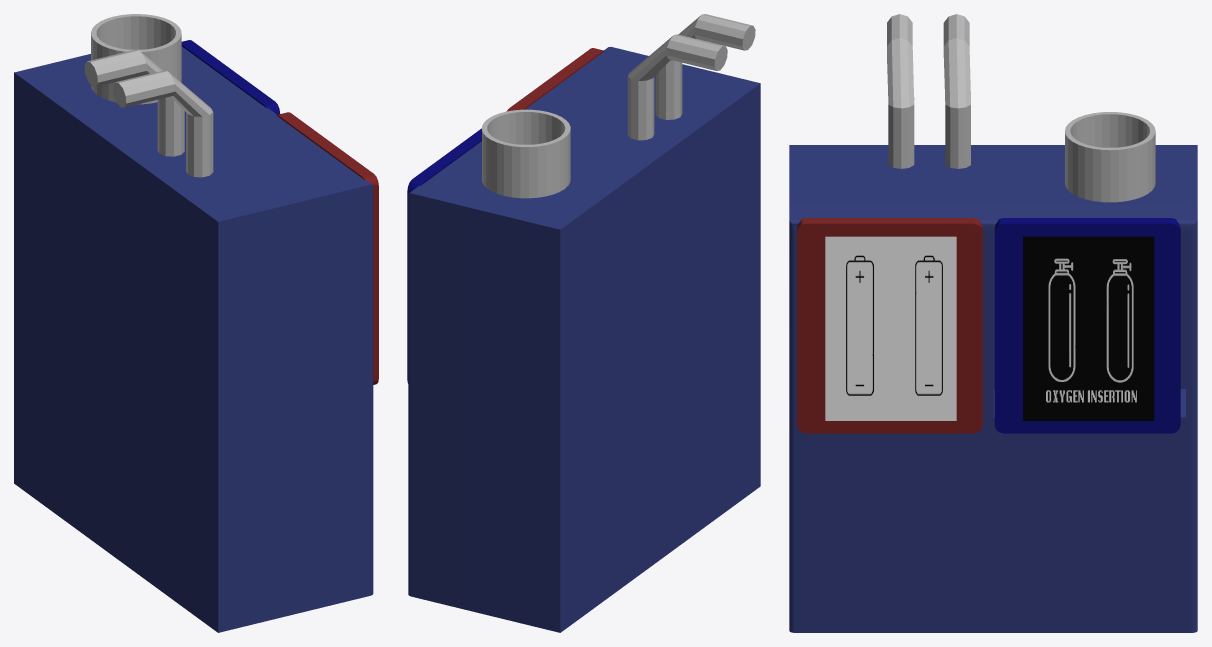
The model's file is BridgeExtensionMachine.fbx.
3 renders of one model, left to right at view 1: azimuth 30°, elevation 25°; view 2: azimuth 150°, elevation 25°; view 3: azimuth 270°, elevation 25°, orthographic. The views are drawn at different scales.
Parts seen in each view (by area): view 1: Bridge_Control_Machine, OxygenCableOpening, Pipe.003, Pipe.004, Battery_Panel_Machine, Battery_Panel_Machine.001; view 2: Bridge_Control_Machine, OxygenCableOpening, Pipe.004, Pipe.003, Battery_Panel_Machine.001, Battery_Panel_Machine; view 3: Bridge_Control_Machine, Plane.002, Plane.003, Battery_Panel_Machine.001, Battery_Panel_Machine, OxygenCableOpening, Pipe.003, Pipe.004.
Part boxes in pixels (box(x1,y1,x2,y2)): Bridge_Control_Machine: box(14, 46, 373, 632); OxygenCableOpening: box(91, 14, 181, 104); Pipe.003: box(113, 70, 213, 177); Pipe.004: box(84, 49, 184, 156); Battery_Panel_Machine: box(276, 112, 378, 384); Battery_Panel_Machine.001: box(181, 40, 280, 114); Bridge_Control_Machine: box(408, 47, 760, 632); OxygenCableOpening: box(482, 109, 570, 198); Pipe.004: box(627, 34, 727, 140); Pipe.003: box(655, 14, 755, 119); Battery_Panel_Machine.001: box(407, 128, 481, 383); Battery_Panel_Machine: box(506, 48, 604, 111); Bridge_Control_Machine: box(789, 145, 1197, 632); Plane.002: box(825, 236, 956, 420); Plane.003: box(1023, 236, 1154, 420); Battery_Panel_Machine.001: box(994, 218, 1180, 433); Battery_Panel_Machine: box(797, 218, 982, 433); OxygenCableOpening: box(1065, 112, 1155, 202); Pipe.003: box(887, 14, 914, 168); Pipe.004: box(943, 14, 970, 168).
Size of the model in its own units: 5.32 by 12.66 by 9.
